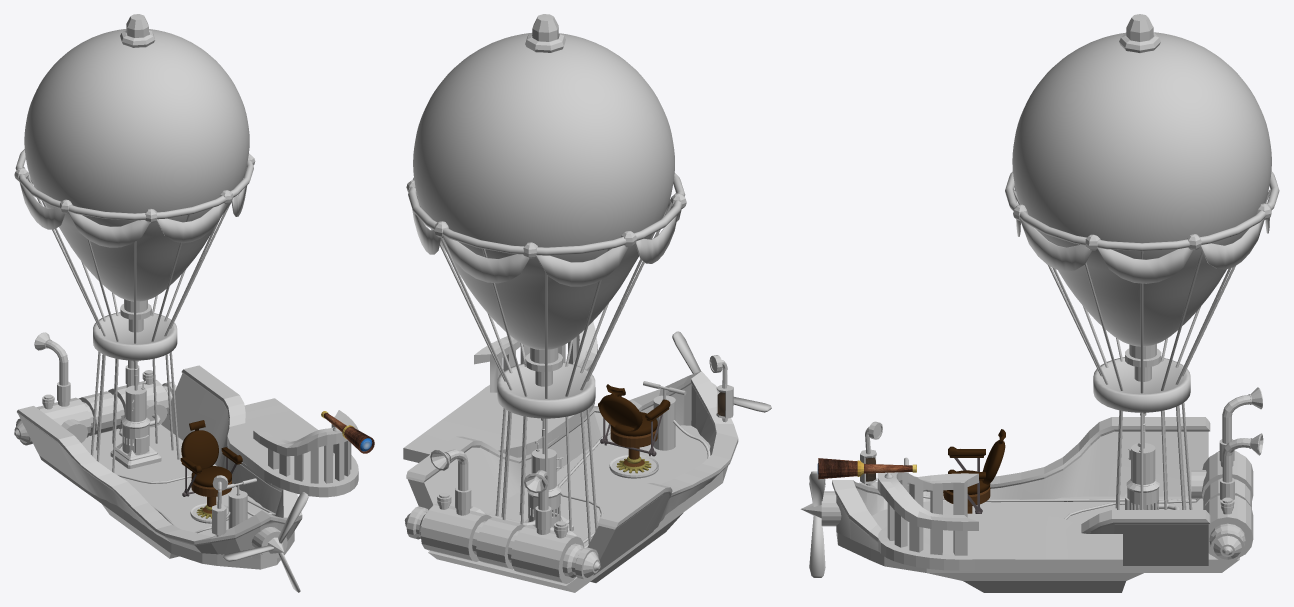
File: playerBaloon.fbx
3 renders of one model, left to right at view 1: azimuth 30°, elevation 25°; view 2: azimuth 150°, elevation 25°; view 3: azimuth 270°, elevation 25°, orthographic. The views are drawn at different scales.
Parts seen in each view (by area): view 1: HAB, chair, propeller, periscope; view 2: HAB, chair, propeller; view 3: HAB, chair, propeller, periscope.
Boxes of the visible parts, box(x1,y1,x2,y2) form: HAB: box(14, 14, 358, 569); chair: box(180, 420, 242, 518); propeller: box(223, 492, 308, 592); periscope: box(321, 411, 374, 453); HAB: box(403, 14, 738, 592); chair: box(598, 384, 670, 473); propeller: box(672, 331, 771, 412); HAB: box(821, 14, 1279, 592); chair: box(943, 429, 1005, 513); propeller: box(800, 471, 825, 577); periscope: box(817, 458, 916, 479).
Bounding box in the file's own units: 464 × 905 × 705.
